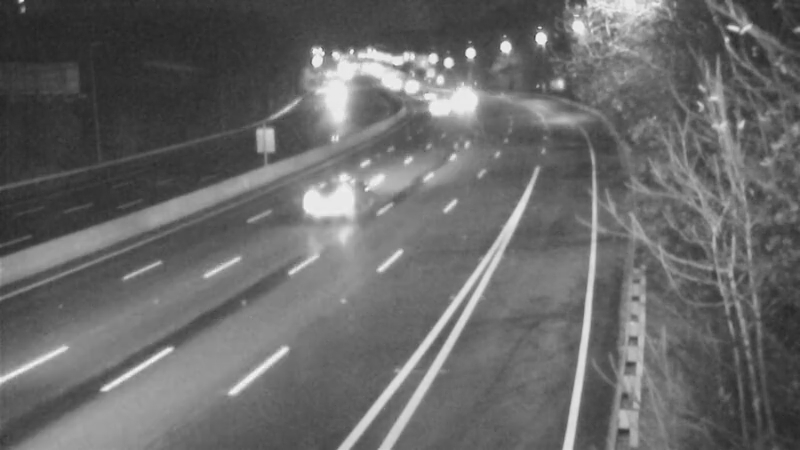vehicle: (309, 153, 389, 233), (435, 74, 485, 124), (417, 80, 467, 130)
